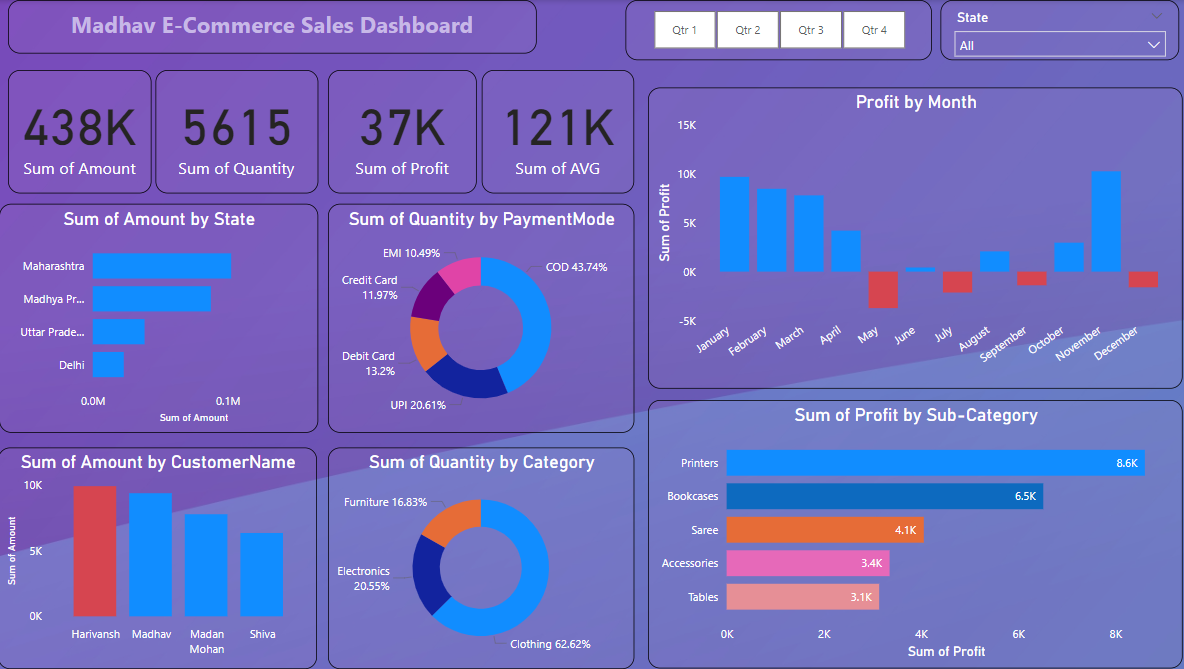

Layout of this report page (visuals, bound fields, positions):
{"tool":"powerbi","page":{"name":"Page 1","canvas":[1280,720],"ordinal":0},"visuals":[{"type":"textbox","box":[10.8,0,568.9,57.8],"z":0},{"type":"columnChart","title":"Profit by Month","fields":{"Category":["Orders.Order Date.Variation.Date Hierarchy.Month"],"Y":["Details.Profit"]},"box":[699.3,94.1,575.6,324.1],"z":1000},{"type":"barChart","fields":{"Y":["Details.Profit"],"Category":["Details.Sub-Category"]},"box":[699.3,430.3,575.6,289.1],"z":2000},{"type":"donutChart","fields":{"Category":["Details.Category"],"Y":["Details.Quantity"]},"box":[355,481.4,329.5,238],"z":3000},{"type":"donutChart","fields":{"Y":["Details.Quantity"],"Category":["Details.PaymentMode"]},"box":[355,219.2,329.5,246.1],"z":4000},{"type":"card","fields":{"Values":["Details.Amount"]},"box":[10.8,75.3,154.7,133.1],"z":5000},{"type":"card","fields":{"Values":["Details.Quantity"]},"box":[169.4,75.3,174.8,133.1],"z":6000},{"type":"card","fields":{"Values":["Details.Profit"]},"box":[355,75.3,160,133.1],"z":7000},{"type":"card","fields":{"Values":["Details.AVG"]},"box":[520.4,75.3,164.1,133.1],"z":8000},{"type":"barChart","fields":{"Y":["Details.Amount"],"Category":["Orders.State"]},"box":[1.3,219.2,342.9,246.1],"z":9000},{"type":"columnChart","fields":{"Category":["Orders.CustomerName"],"Y":["Details.Amount"]},"box":[0,481.4,342.9,238],"z":10000},{"type":"slicer","fields":{"Values":["Orders.Order Date.Variation.Date Hierarchy.Quarter"]},"box":[675.1,0,329.5,64.6],"z":11000},{"type":"slicer","fields":{"Values":["Orders.State"]},"box":[1014,0,256.9,64.6],"z":12000}]}

Visuals, with their boxes in screenshot pixels (x1, y1, x2, y2), scaled from the page's 1280x720 canvas onto the 1184x669 screenshot:
textbox: rect(10, 0, 536, 54)
"Profit by Month" columnChart: rect(647, 87, 1179, 389)
barChart - Details.Profit x Details.Sub-Category: rect(647, 400, 1179, 668)
donutChart - Details.Category x Details.Quantity: rect(328, 447, 633, 668)
donutChart - Details.Quantity x Details.PaymentMode: rect(328, 204, 633, 432)
card - Details.Amount: rect(10, 70, 153, 194)
card - Details.Quantity: rect(157, 70, 318, 194)
card - Details.Profit: rect(328, 70, 476, 194)
card - Details.AVG: rect(481, 70, 633, 194)
barChart - Details.Amount x Orders.State: rect(1, 204, 318, 432)
columnChart - Orders.CustomerName x Details.Amount: rect(0, 447, 317, 668)
slicer - Orders.Order Date.Variation.Date Hierarchy.Quarter: rect(624, 0, 929, 60)
slicer - Orders.State: rect(938, 0, 1176, 60)
